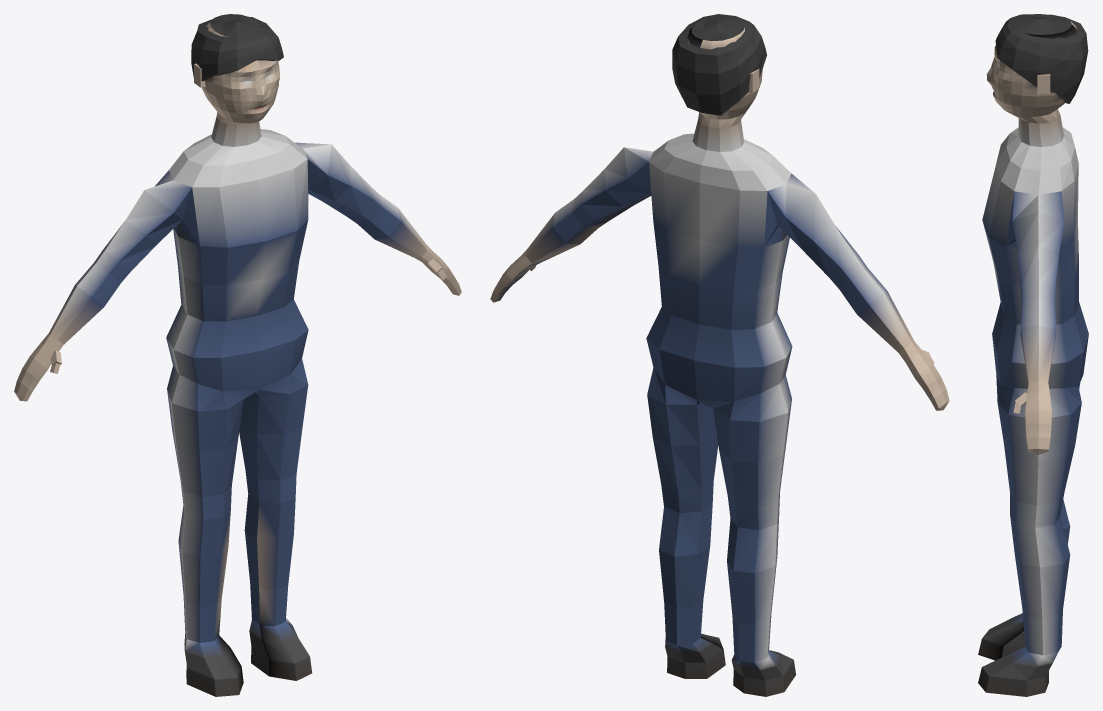
Rendered from char__pessoa__piloto_m02.glb.
The picture shows the model from 3 angles, left to right: view 1: azimuth 30°, elevation 25°; view 2: azimuth 150°, elevation 25°; view 3: azimuth 270°, elevation 25°; orthographic projection. The views are drawn at different scales.
Parts seen in each view (by area): view 1: char__pessoa__piloto_m02; view 2: char__pessoa__piloto_m02; view 3: char__pessoa__piloto_m02.
Part boxes in pixels (x1,y1,x2,y2): char__pessoa__piloto_m02: [14, 14, 461, 696]; char__pessoa__piloto_m02: [490, 14, 949, 696]; char__pessoa__piloto_m02: [978, 14, 1088, 696].
Size of the model in its own units: 1.21 by 1.7 by 0.2612.
